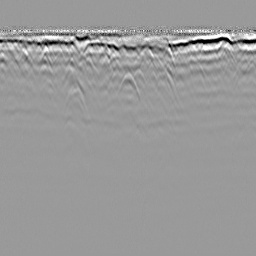cavity: (116, 69, 141, 99)
